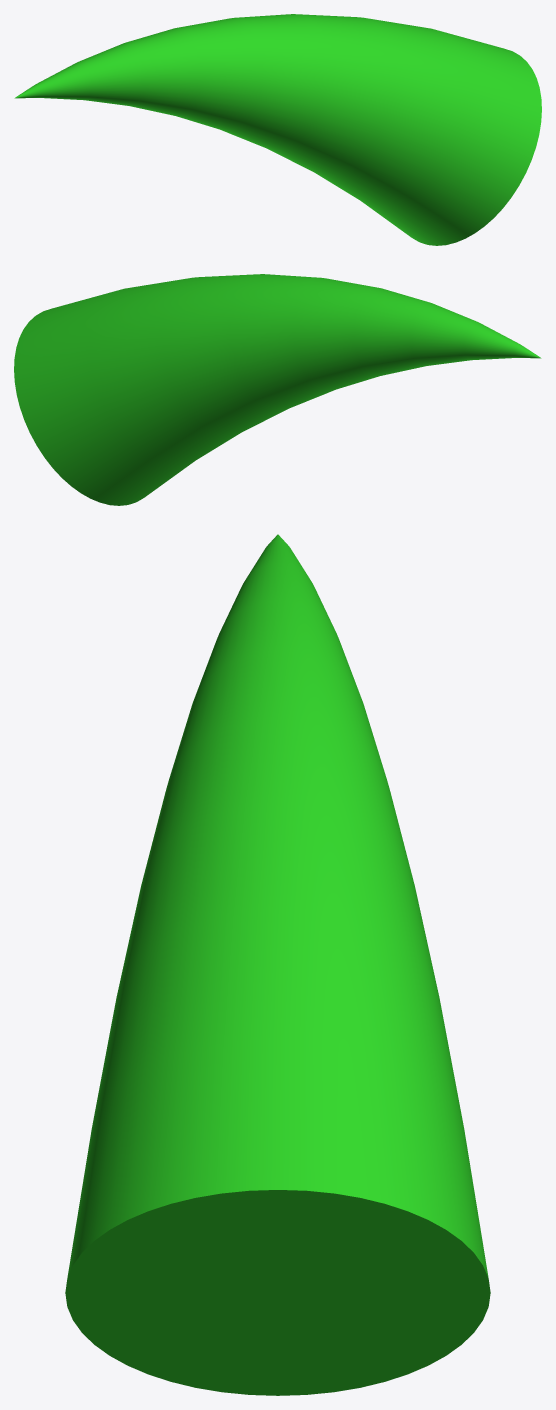
Rendered from vine.fbx.
3 renders of one model, top to bottom at view 1: azimuth 30°, elevation 25°; view 2: azimuth 150°, elevation 25°; view 3: azimuth 270°, elevation 25°, orthographic. The views are drawn at different scales.
Visible parts, largest first — view 1: NurbsPath; view 2: NurbsPath; view 3: NurbsPath.
Part boxes in pixels (bbox=[...]): NurbsPath: bbox=[14, 14, 541, 245]; NurbsPath: bbox=[14, 274, 541, 505]; NurbsPath: bbox=[65, 534, 490, 1395].
Size of the model in its own units: 292 by 144 by 106.
